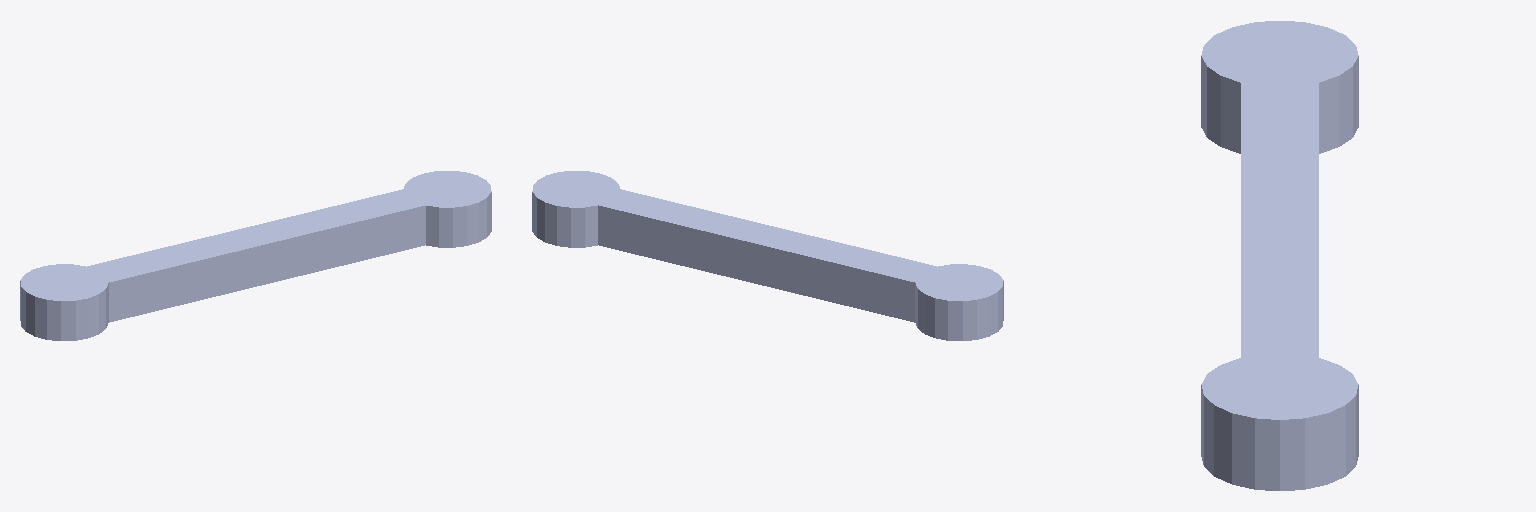
URDF robot description (four_bar_loop):
<?xml version="1.0" encoding="utf-8"?>
<!-- This URDF was automatically created by SolidWorks to URDF Exporter! Originally created by [author] ([email redacted]) 
     Commit Version: 1.6.0-1-g15f4949  Build Version: 1.6.7594.29634
     For more information, please see http://wiki.ros.org/sw_urdf_exporter -->
<robot
  name="four_bar_loop">
  <link
    name="link300">
    <inertial>
      <origin
        xyz="0.150000000000002 6.10622663543836E-16 -0.015"
        rpy="0 0 0" />
      <mass
        value="0.387988983509361" />
      <inertia
        ixx="8.37883515447938E-05"
        ixy="-2.05998412772246E-18"
        ixz="7.64093897891319E-22"
        iyy="0.00495551827184943"
        iyz="2.2134267314846E-21"
        izz="0.00498110827586782" />
    </inertial>
    <visual>
      <origin
        xyz="0 0 0"
        rpy="0 0 0" />
      <geometry>
        <mesh
          filename="package://four_bar_loop/meshes/link300.STL" />
      </geometry>
      <material
        name="">
        <color
          rgba="0.792156862745098 0.819607843137255 0.933333333333333 1" />
      </material>
    </visual>
    <collision>
      <origin
        xyz="0 0 0"
        rpy="0 0 0" />
      <geometry>
        <mesh
          filename="package://four_bar_loop/meshes/link300.STL" />
      </geometry>
    </collision>
  </link>
</robot>

--- What the picture shows (computed from the rendered views, not written in the file) ---
Views: 3 orthographic renders of the robot side by side, from view 1: azimuth 30°, elevation 25°; view 2: azimuth 150°, elevation 25°; view 3: azimuth 270°, elevation 25°.
Robot: four_bar_loop — 1 links, 0 joints (none); root link link300; default pose: every joint at zero.
Visible links, largest first — view 1: link300; view 2: link300; view 3: link300.
Boxes of the visible links, bbox=[...] form: link300: bbox=[20, 171, 491, 340]; link300: bbox=[532, 171, 1003, 340]; link300: bbox=[1201, 21, 1358, 490].
Bounding box of the posed robot: 0.36 × 0.0599 × 0.03 m (x, y, z).
1 mesh visuals loaded from 1 distinct referenced files (1 binary STL).